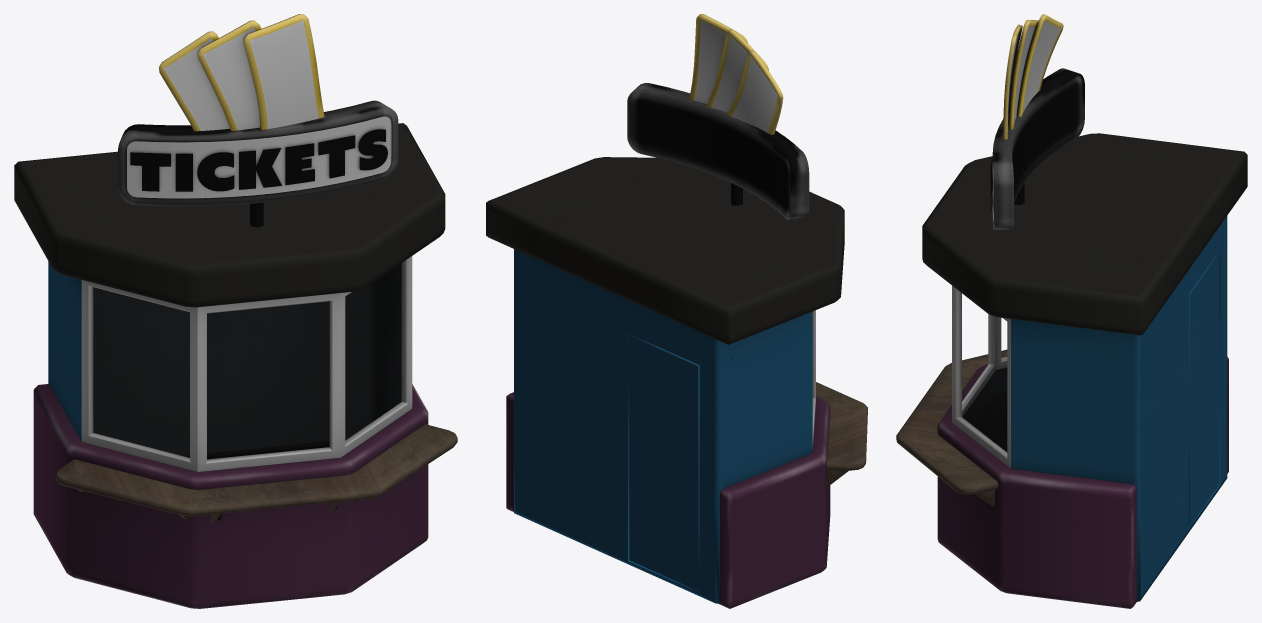
The picture shows the model from 3 angles, left to right: view 1: azimuth 30°, elevation 25°; view 2: azimuth 150°, elevation 25°; view 3: azimuth 270°, elevation 25°; orthographic projection. The views are drawn at different scales.
Parts seen in each view (by area): view 1: booth_1; view 2: booth_1; view 3: booth_1.
Boxes of the visible parts, x1=… form: booth_1: x1=14, y1=14, x2=457, y2=608; booth_1: x1=486, y1=14, x2=867, y2=608; booth_1: x1=896, y1=14, x2=1247, y2=608.
Size of the model in its own units: 323 by 439 by 278.
Materials: 2 (2 with a texture image).
